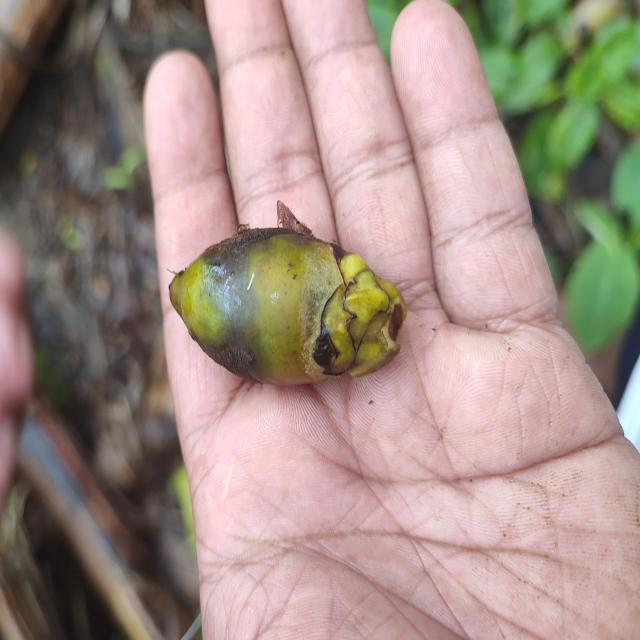damaged: (168, 228, 406, 390)
